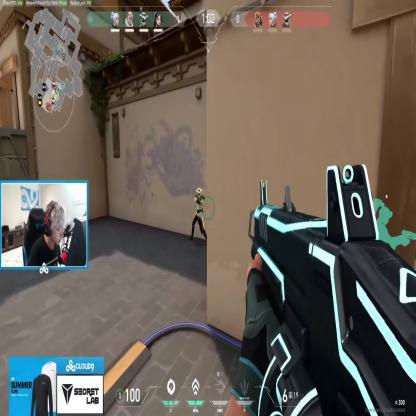enemy: (190, 184, 208, 246)
enemy_head: (197, 188, 201, 197)
